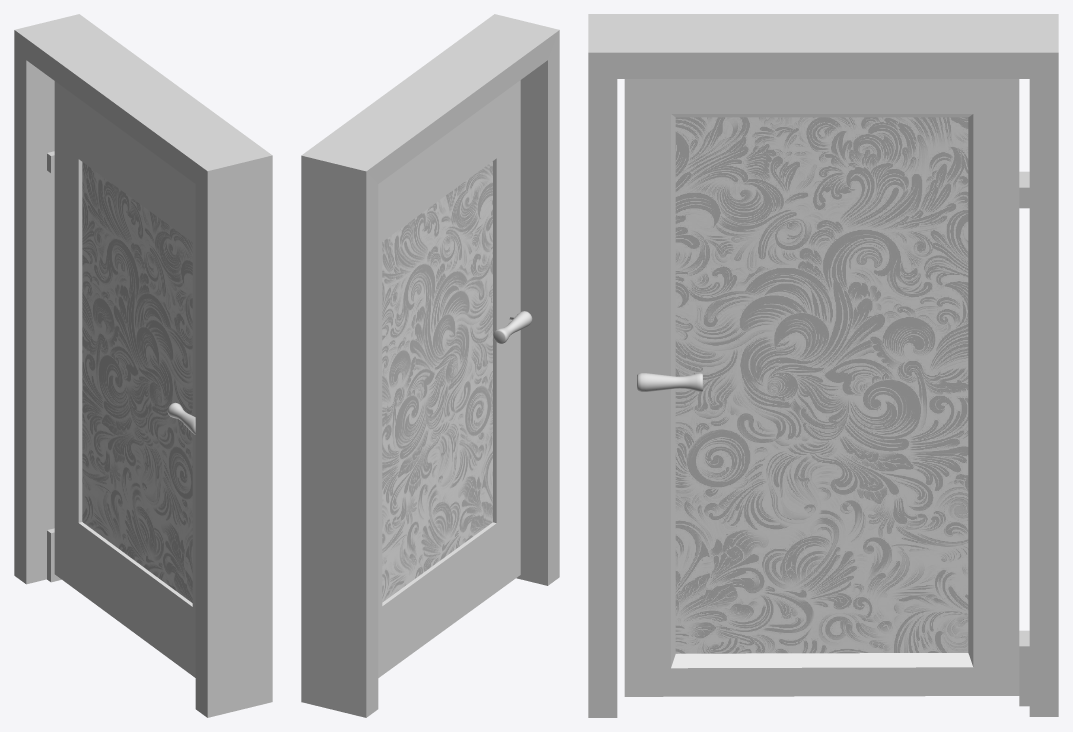
Rendered from Door.fbx.
3 views of the same model, side by side, from view 1: azimuth 30°, elevation 25°; view 2: azimuth 150°, elevation 25°; view 3: azimuth 270°, elevation 25° (orthographic). The views are drawn at different scales.
Parts seen in each view (by area): view 1: DoorBoundry, Door; view 2: DoorBoundry, Door; view 3: Door, DoorBoundry.
Part boxes in pixels (x1,y1,x2,y2): DoorBoundry: [14, 14, 272, 717]; Door: [54, 81, 195, 677]; DoorBoundry: [301, 14, 559, 717]; Door: [378, 80, 532, 677]; Door: [624, 79, 1019, 696]; DoorBoundry: [588, 14, 1058, 717].
Size of the model in its own units: 25.25 by 203 by 130.
